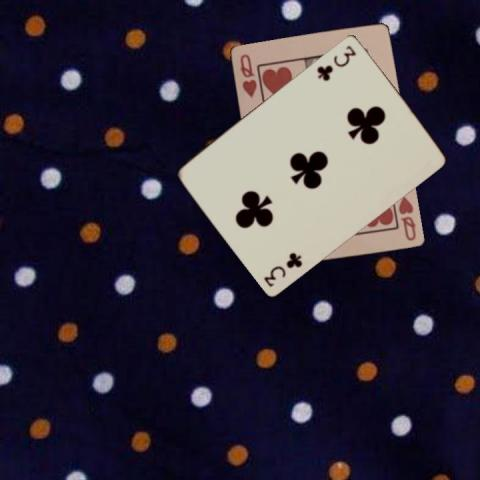3c: (314, 42, 357, 83), (261, 249, 304, 288)
Qh: (395, 192, 418, 243), (237, 52, 259, 100)
